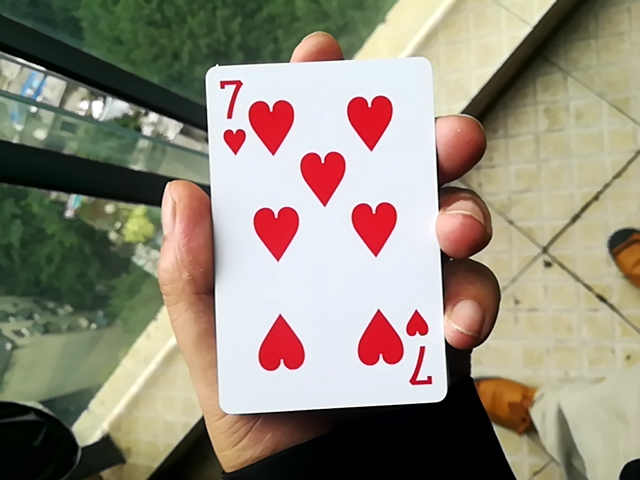hx 7: (197, 35, 440, 415)
